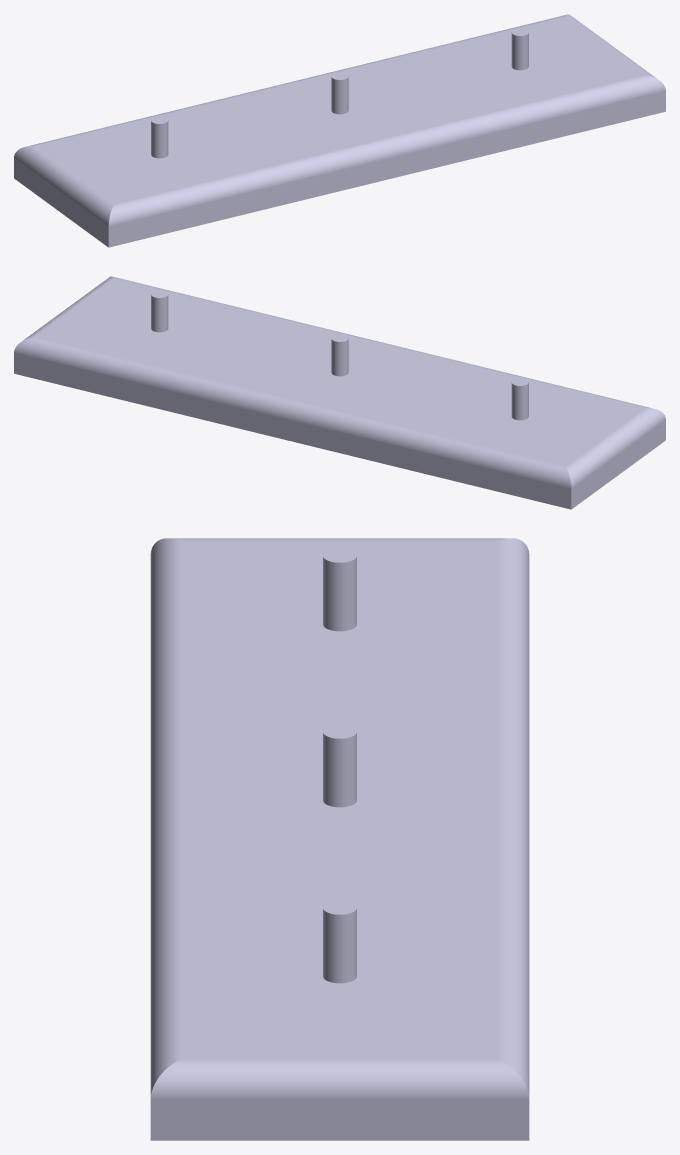
3 renders of one model, top to bottom at view 1: azimuth 30°, elevation 25°; view 2: azimuth 150°, elevation 25°; view 3: azimuth 270°, elevation 25°, orthographic. The views are drawn at different scales.
Visible parts, largest first — view 1: node0; view 2: node0; view 3: node0.
Part boxes in pixels (<box>): node0: <box>14,14,665,247</box>; node0: <box>14,276,665,509</box>; node0: <box>150,538,529,1140</box>.
Bounding box in the file's own units: 1.7 × 0.5 × 0.2.
